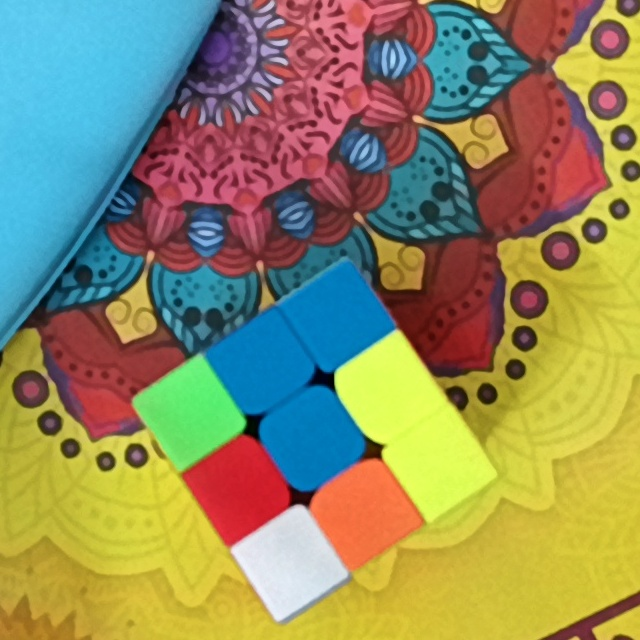tile: (257, 532, 320, 592), (208, 461, 268, 520), (337, 478, 395, 539), (281, 409, 339, 468), (306, 290, 367, 346), (360, 360, 418, 418), (160, 387, 219, 444), (411, 435, 469, 491), (232, 338, 287, 395)
